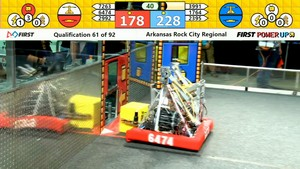cube: (118, 105, 151, 131)
